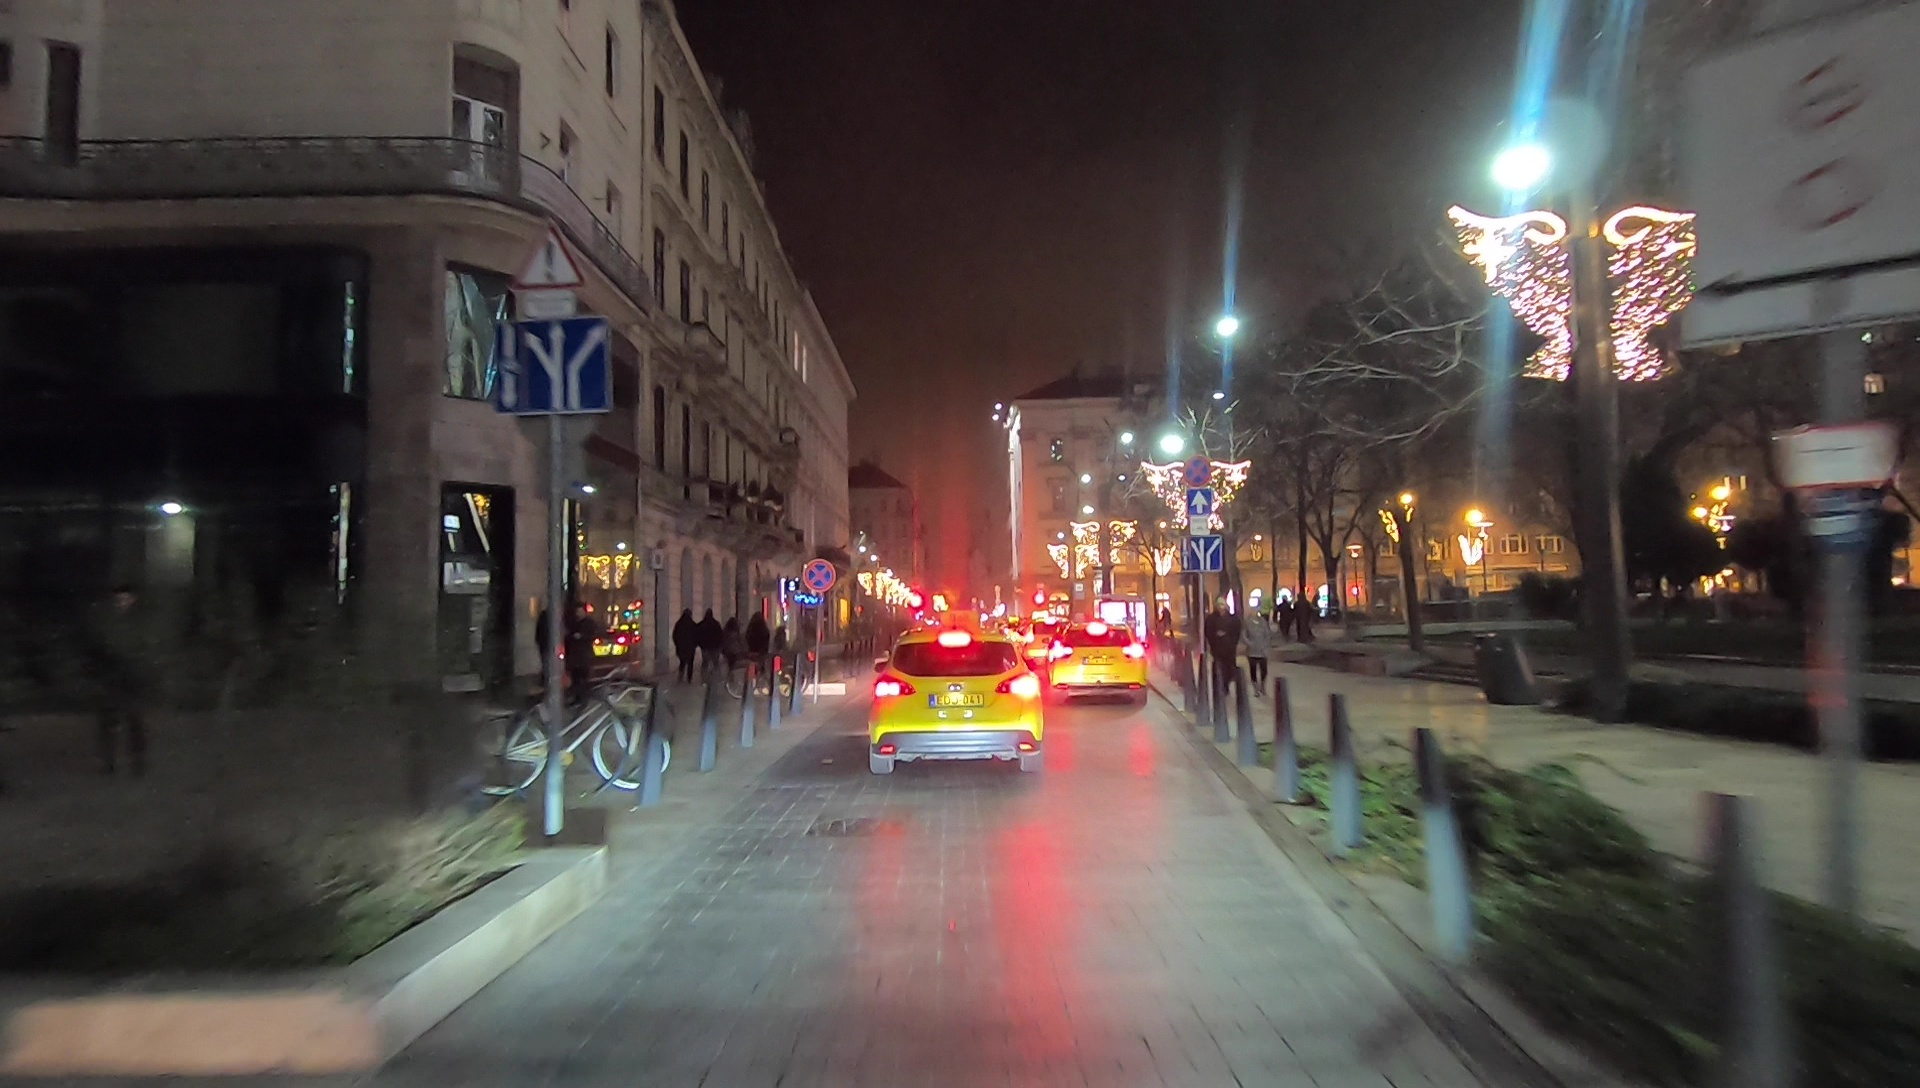person: (78, 573, 156, 776), (565, 599, 597, 699), (1241, 600, 1271, 687), (1210, 600, 1239, 686), (747, 608, 769, 684), (697, 608, 719, 689), (675, 602, 693, 680), (725, 613, 743, 691)
